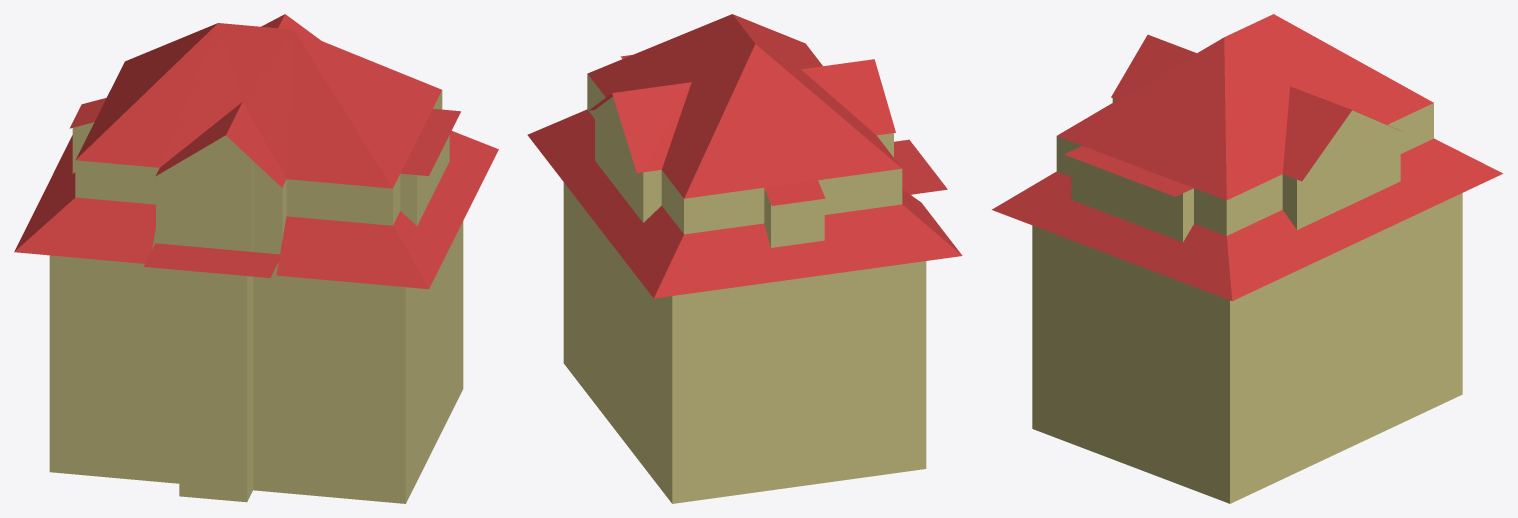
The picture shows the model from 3 angles, left to right: view 1: azimuth 30°, elevation 25°; view 2: azimuth 150°, elevation 25°; view 3: azimuth 270°, elevation 25°; orthographic projection. The views are drawn at different scales.
Visible parts, largest first — view 1: group_5, group_7, group_9, group_3, group_13, group_4, group_11; view 2: group_5, group_7, group_3, group_9, group_4, group_11, group_12; view 3: group_5, group_7, group_3, group_9, group_4, group_8.
Part boxes in pixels (left/top/right/bottom): group_5: left=49, top=221, right=463, bottom=503; group_7: left=69, top=14, right=460, bottom=188; group_9: left=72, top=90, right=449, bottom=492; group_3: left=14, top=131, right=498, bottom=288; group_13: left=179, top=270, right=252, bottom=502; group_4: left=16, top=136, right=496, bottom=287; group_11: left=143, top=243, right=279, bottom=277; group_5: left=563, top=182, right=926, bottom=503; group_7: left=587, top=14, right=901, bottom=205; group_3: left=527, top=109, right=962, bottom=298; group_9: left=587, top=74, right=902, bottom=247; group_4: left=528, top=119, right=961, bottom=297; group_11: left=894, top=139, right=947, bottom=194; group_12: left=894, top=140, right=947, bottom=193; group_5: left=1032, top=193, right=1462, bottom=503; group_7: left=1057, top=14, right=1433, bottom=200; group_3: left=992, top=138, right=1502, bottom=300; group_9: left=1056, top=98, right=1433, bottom=241; group_4: left=994, top=153, right=1501, bottom=300; group_8: left=1065, top=64, right=1401, bottom=195.
Bounding box in the file's own units: 17.96 × 17.75 × 14.77.
